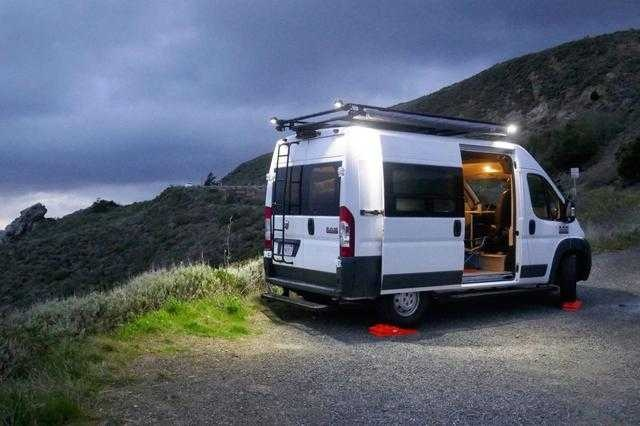van: (261, 121, 592, 328)
